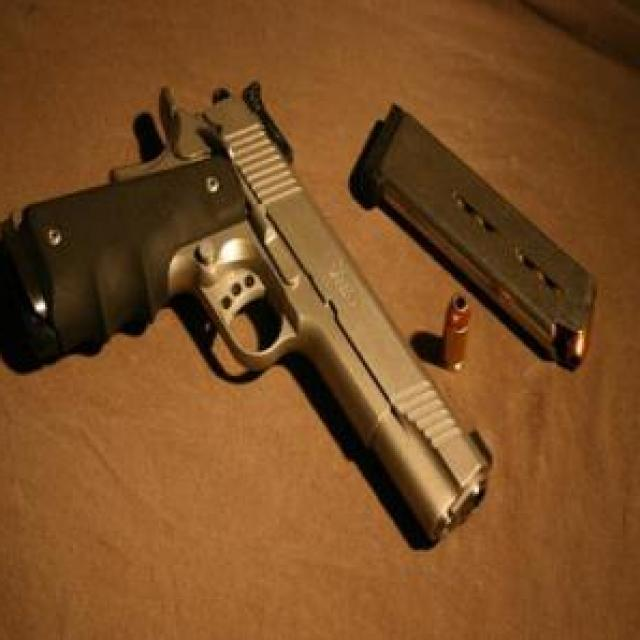pistol: (0, 75, 494, 548)
